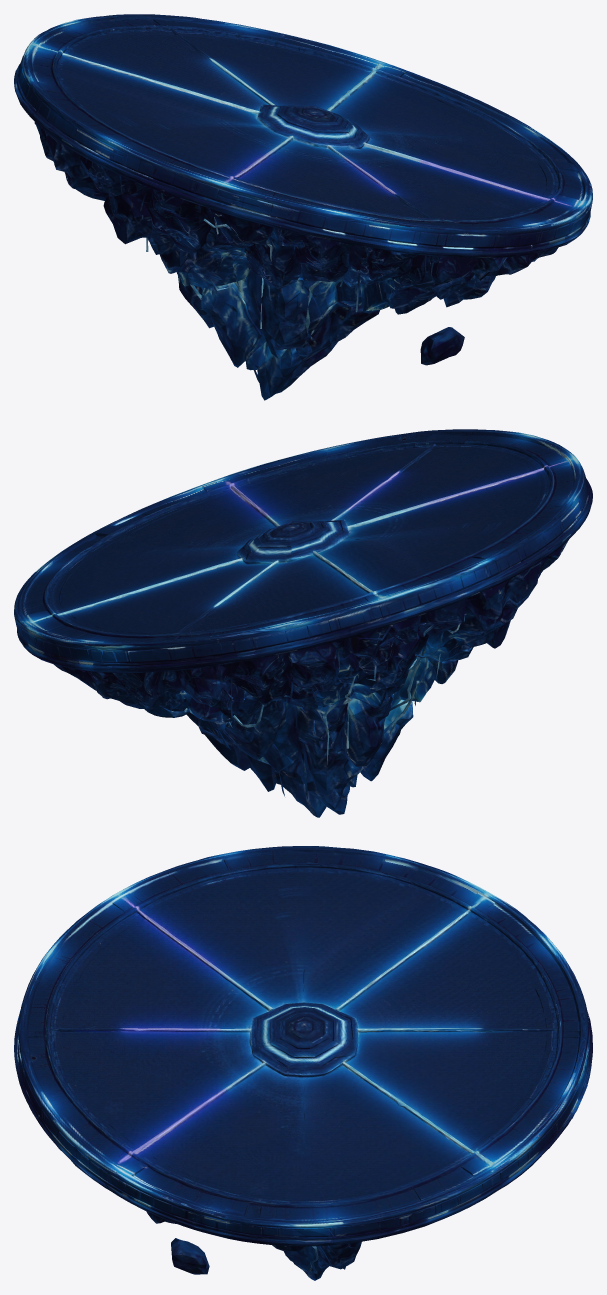
Rendered from base-plataforma.glb.
3 views of the same model, one above another, from view 1: azimuth 30°, elevation 25°; view 2: azimuth 150°, elevation 25°; view 3: azimuth 270°, elevation 25° (orthographic). The views are drawn at different scales.
Visible parts, largest first — view 1: tripo_node_cf36819a-f166-433a-93f9-a9e145423deb; view 2: tripo_node_cf36819a-f166-433a-93f9-a9e145423deb; view 3: tripo_node_cf36819a-f166-433a-93f9-a9e145423deb.
Boxes of the visible parts, <box> form: tripo_node_cf36819a-f166-433a-93f9-a9e145423deb: <box>14,14,592,400</box>; tripo_node_cf36819a-f166-433a-93f9-a9e145423deb: <box>14,429,592,817</box>; tripo_node_cf36819a-f166-433a-93f9-a9e145423deb: <box>14,846,592,1280</box>.
Bounding box in the file's own units: 0.9445 × 0.6099 × 0.9702.
Materials: 1 (1 with a texture image).
